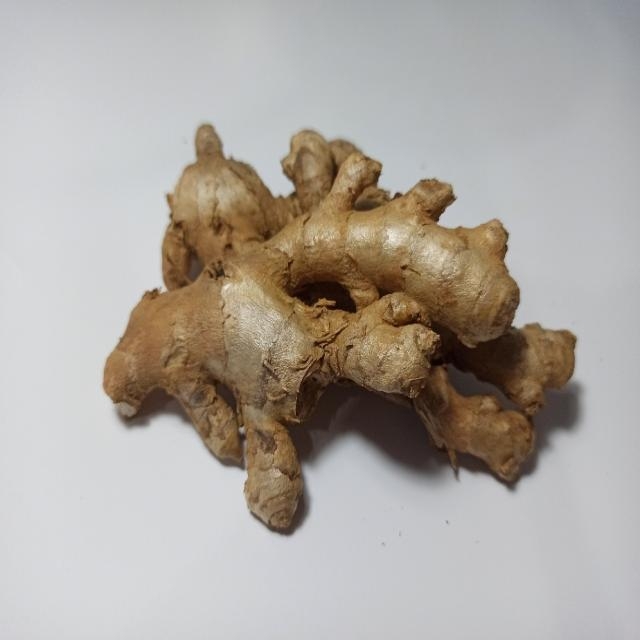ginger: (108, 128, 571, 532)
